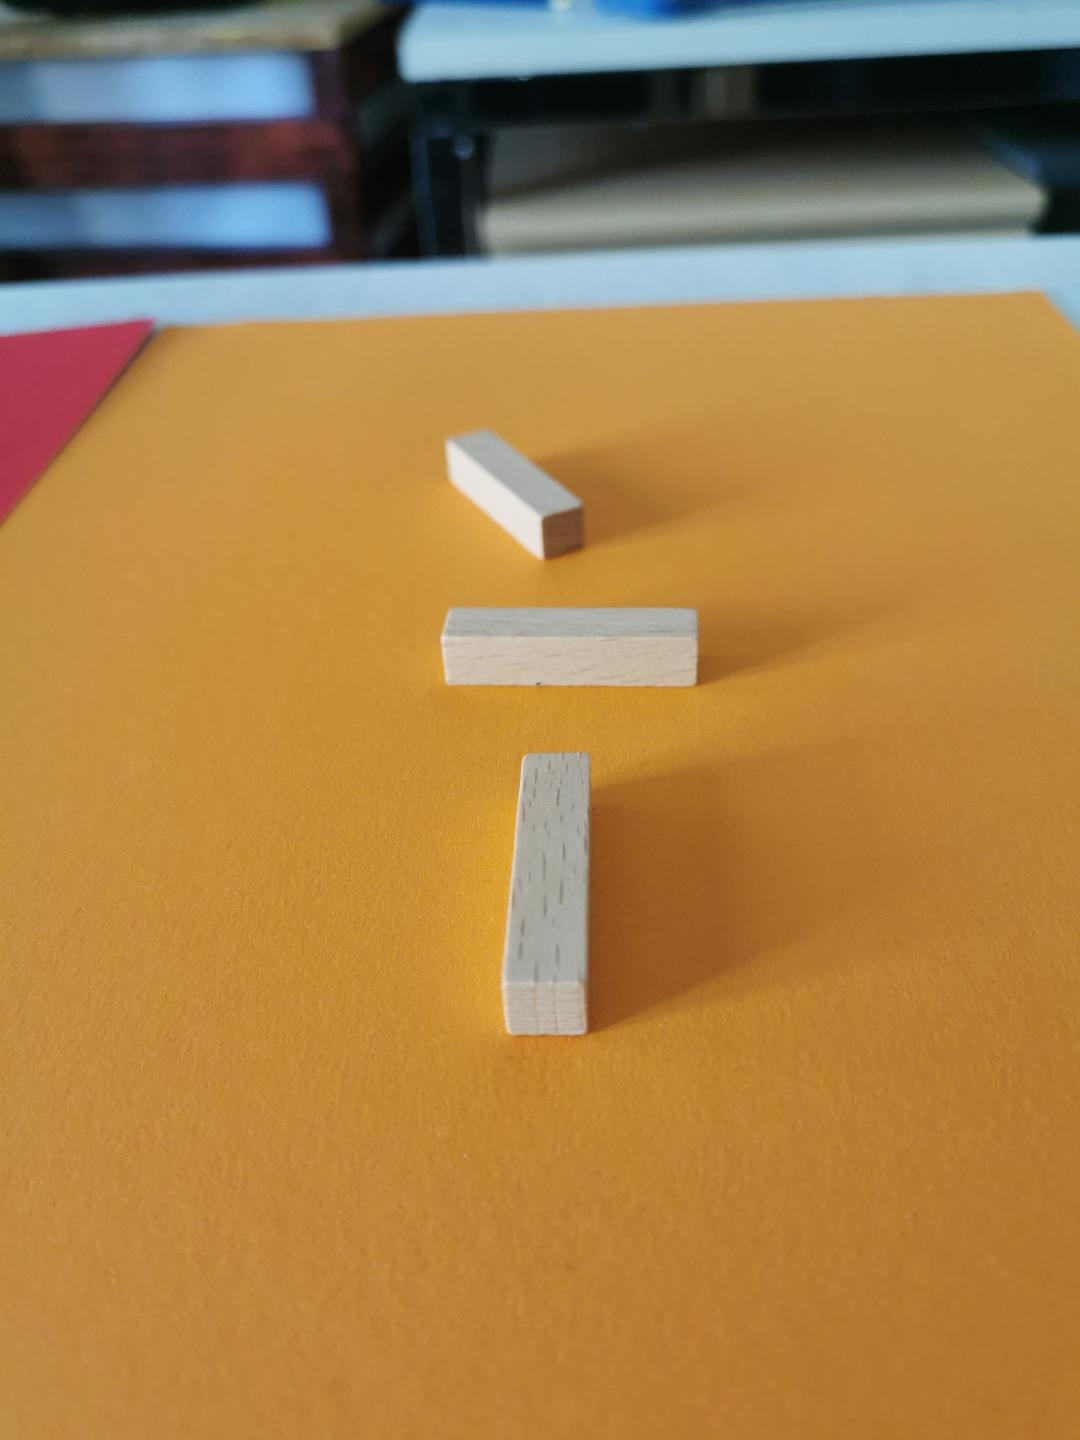jenga: (504, 754, 591, 1035), (441, 608, 698, 686), (445, 431, 585, 560)
